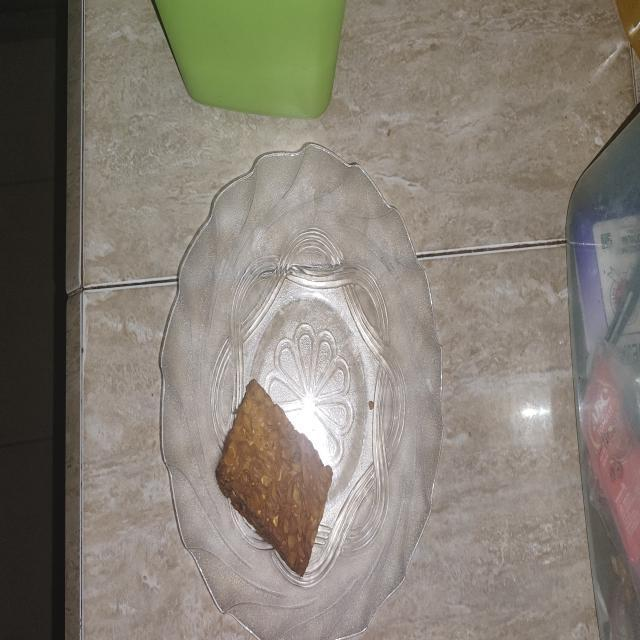tempe_goreng: (216, 380, 332, 576)
